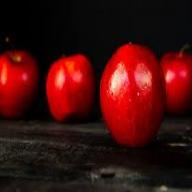apple: (100, 45, 162, 144), (46, 54, 95, 120), (1, 49, 40, 119), (160, 41, 192, 114)
